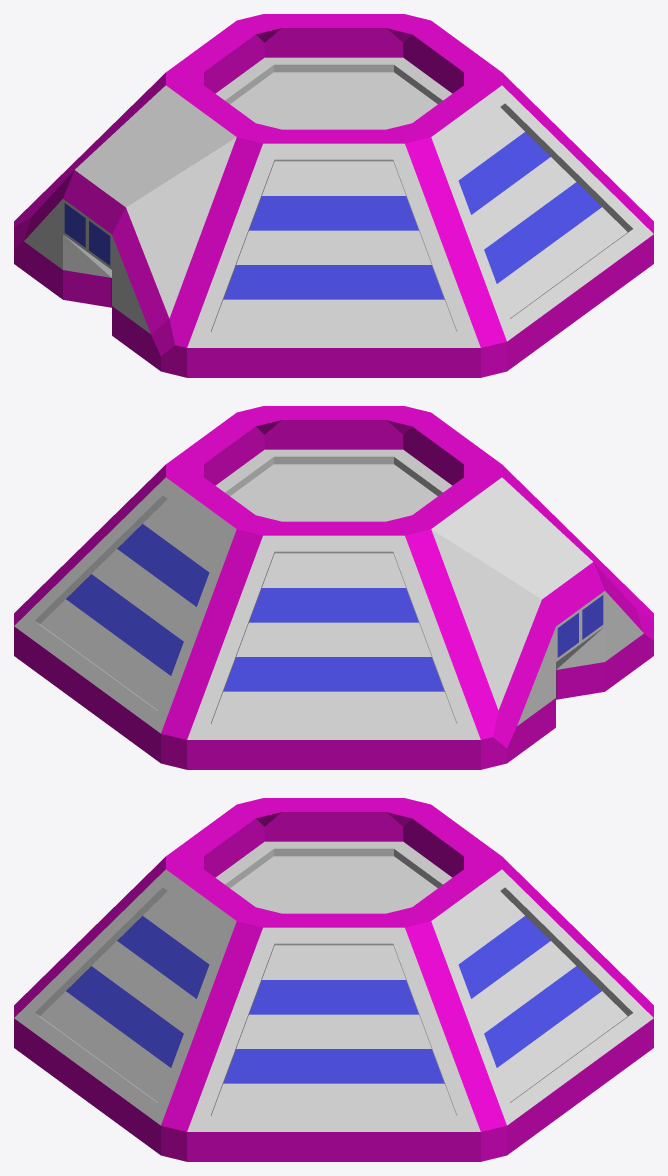
File: DynaLab.fbx
The picture shows the model from 3 angles, top to bottom: view 1: azimuth 30°, elevation 25°; view 2: azimuth 150°, elevation 25°; view 3: azimuth 270°, elevation 25°; orthographic projection.
Parts seen in each view (by area): view 1: DynaLab; view 2: DynaLab; view 3: DynaLab.
Part boxes in pixels (x1=…): DynaLab: x1=14, y1=14, x2=653, y2=377; DynaLab: x1=14, y1=406, x2=653, y2=769; DynaLab: x1=14, y1=798, x2=653, y2=1161.
Bounding box in the file's own units: 1732 × 600 × 1947.
